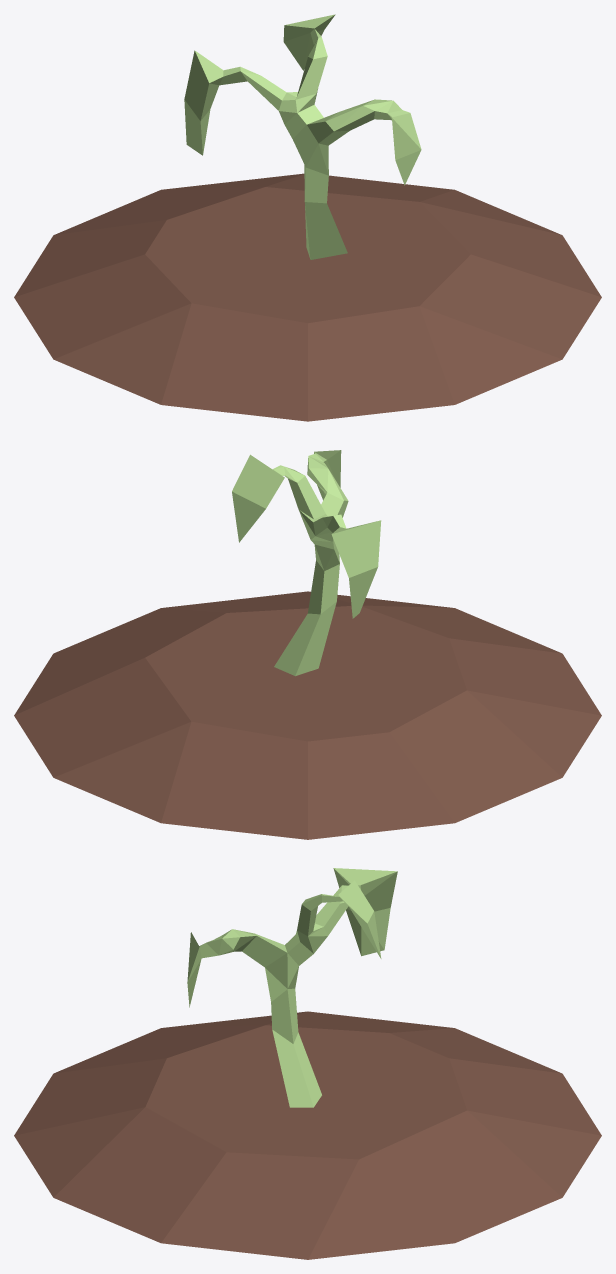
The model's file is TomatoStage1_Import.fbx.
The picture shows the model from 3 angles, top to bottom: view 1: azimuth 30°, elevation 25°; view 2: azimuth 150°, elevation 25°; view 3: azimuth 270°, elevation 25°; orthographic projection.
Parts seen in each view (by area): view 1: Cube.001, Cube; view 2: Cube.001, Cube; view 3: Cube.001, Cube.
Part boxes in pixels (box(x1,y1,x2,y2)): Cube.001: box(14, 173, 601, 421); Cube: box(184, 14, 421, 259); Cube.001: box(14, 591, 601, 839); Cube: box(232, 450, 381, 676); Cube.001: box(14, 1011, 601, 1259); Cube: box(187, 868, 397, 1107).
Bounding box in the file's own units: 8469 × 8469 × 4158.
